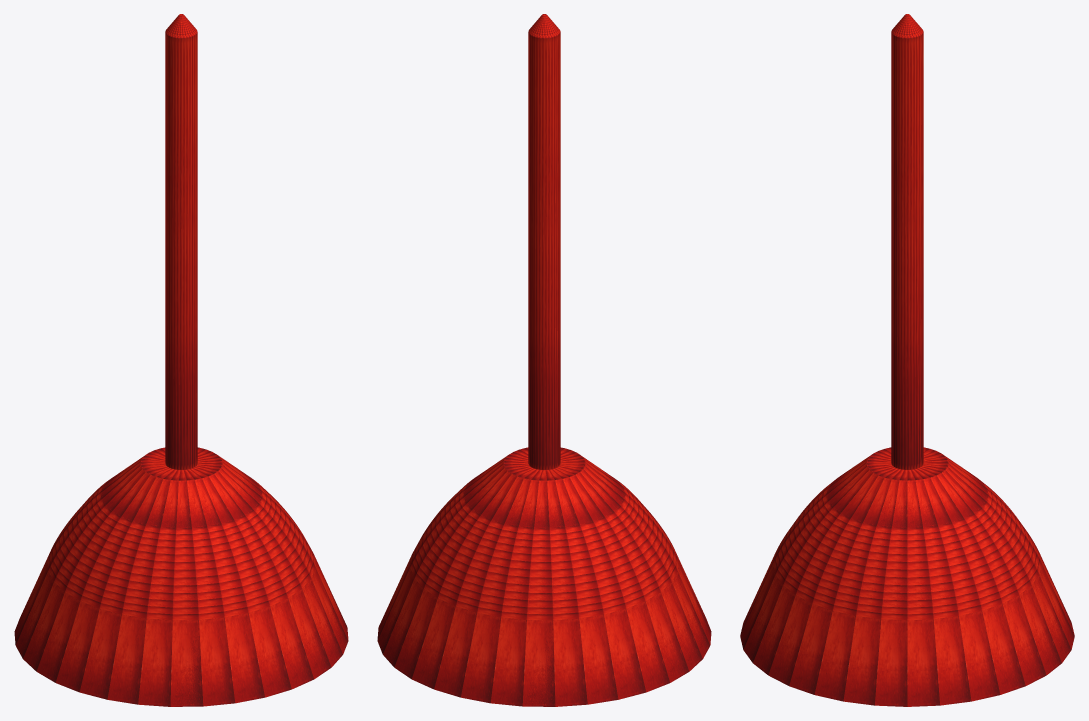
Rendered from plunger.obj.
3 views of the same model, side by side, from view 1: azimuth 30°, elevation 25°; view 2: azimuth 150°, elevation 25°; view 3: azimuth 270°, elevation 25° (orthographic).
Parts seen in each view (by area): view 1: Cylinder; view 2: Cylinder; view 3: Cylinder.
Part boxes in pixels (box(x1,y1,x2,y2)): Cylinder: box(14, 14, 348, 706); Cylinder: box(377, 14, 711, 706); Cylinder: box(740, 14, 1074, 706).
Bounding box in the file's own units: 3.51 × 7.18 × 3.51.
1 material, 1 textured.
